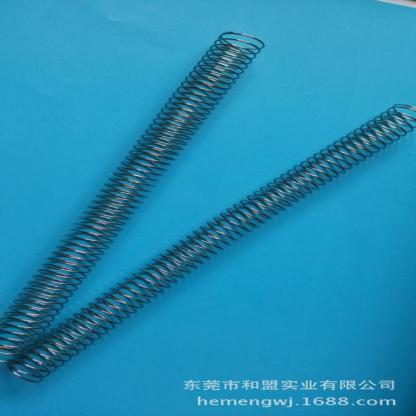FOD: (6, 100, 415, 386), (0, 26, 267, 367)
